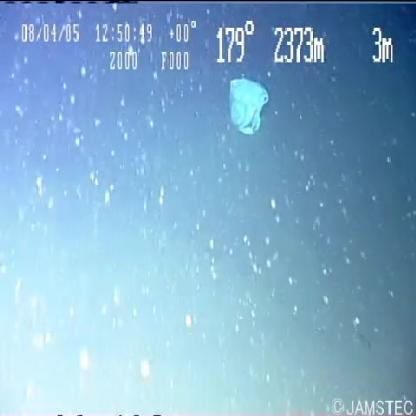Rác: (224, 73, 302, 152)
